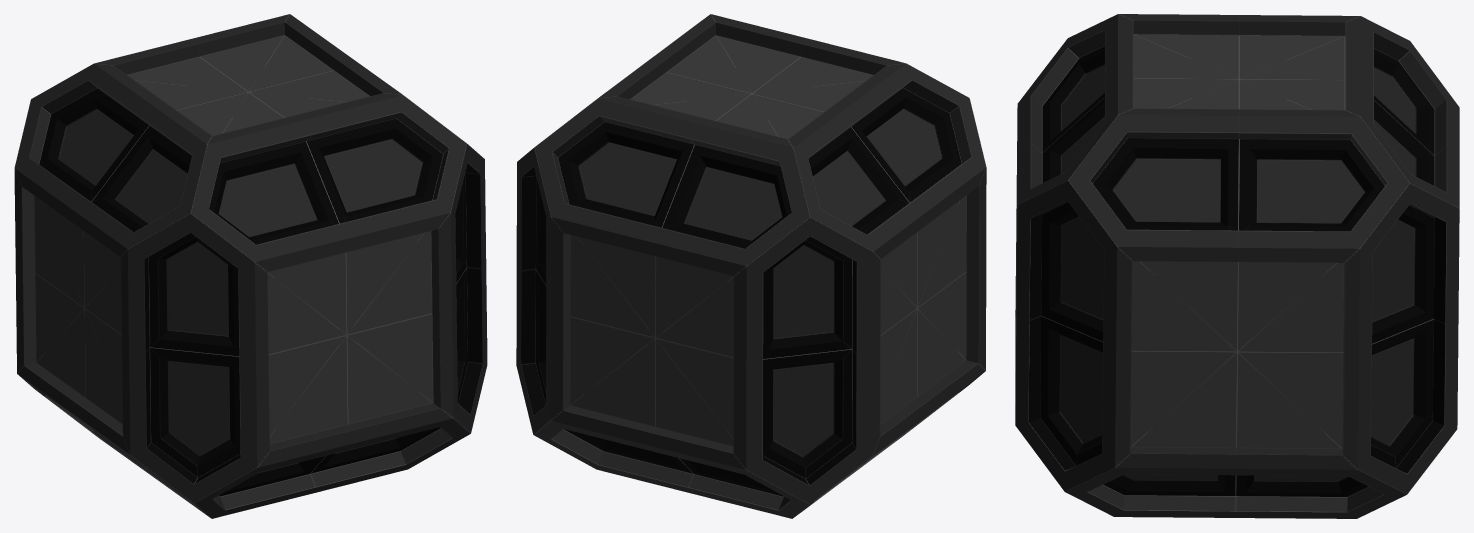
Rendered from Cargo Box.fbx.
The picture shows the model from 3 angles, left to right: view 1: azimuth 30°, elevation 25°; view 2: azimuth 150°, elevation 25°; view 3: azimuth 270°, elevation 25°; orthographic projection. The views are drawn at different scales.
Visible parts, largest first — view 1: Symmetry_1; view 2: Symmetry_1; view 3: Symmetry_1.
Boxes of the visible parts, bbox=[...] form: Symmetry_1: bbox=[14, 14, 487, 518]; Symmetry_1: bbox=[516, 14, 986, 518]; Symmetry_1: bbox=[1015, 14, 1459, 518].
Size of the model in its own units: 259 by 261 by 259.
1 material, 1 textured.
